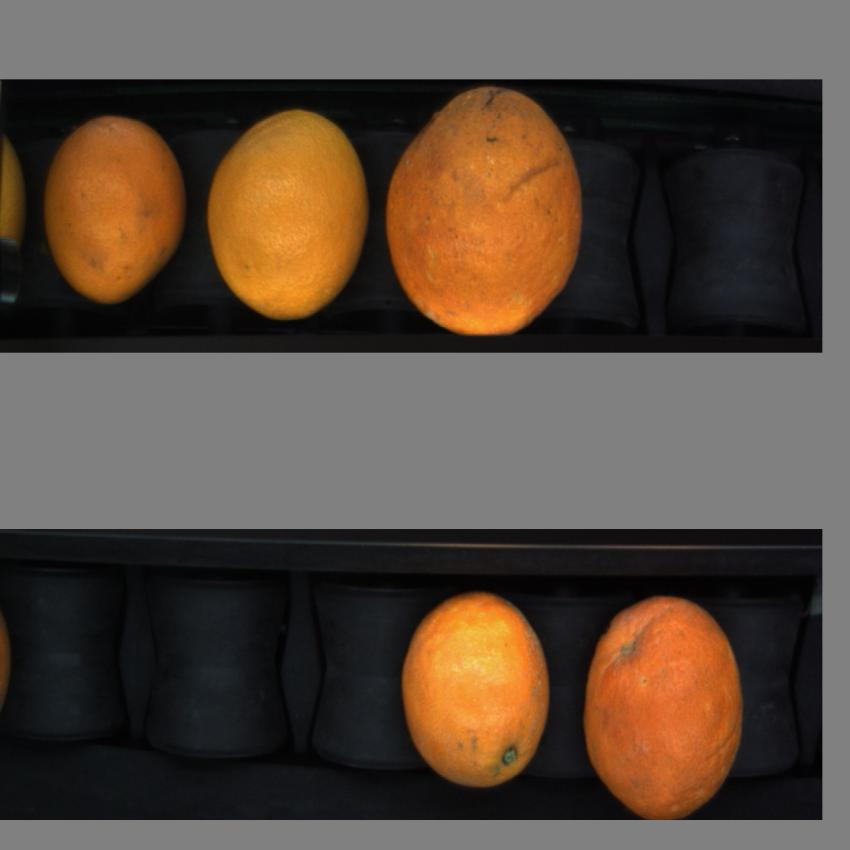Buen estado: (204, 101, 374, 331), (390, 588, 560, 796), (38, 106, 192, 320)
Mal estado: (382, 80, 588, 348), (579, 588, 750, 822)
